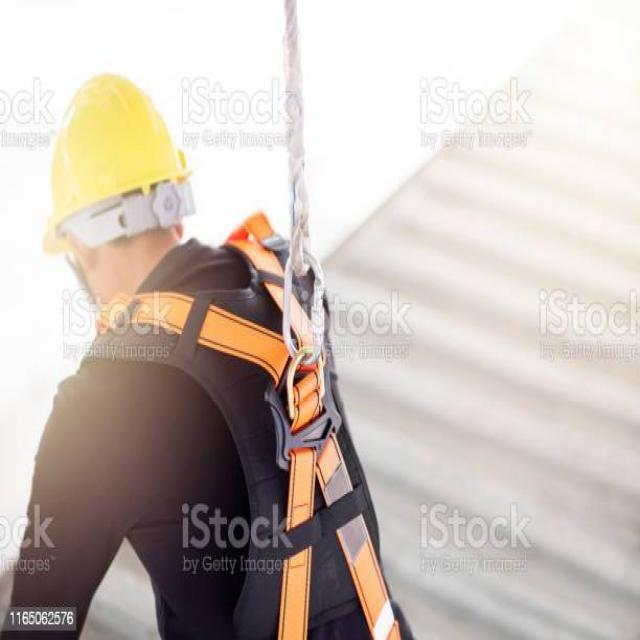belt: (95, 201, 408, 640)
